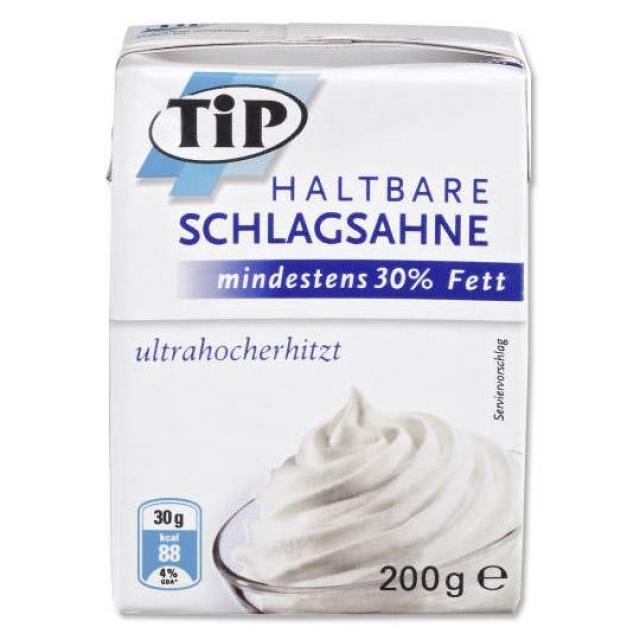Cream: (110, 24, 529, 614)
